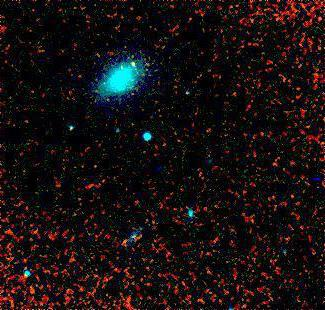star: (121, 48, 151, 78)
